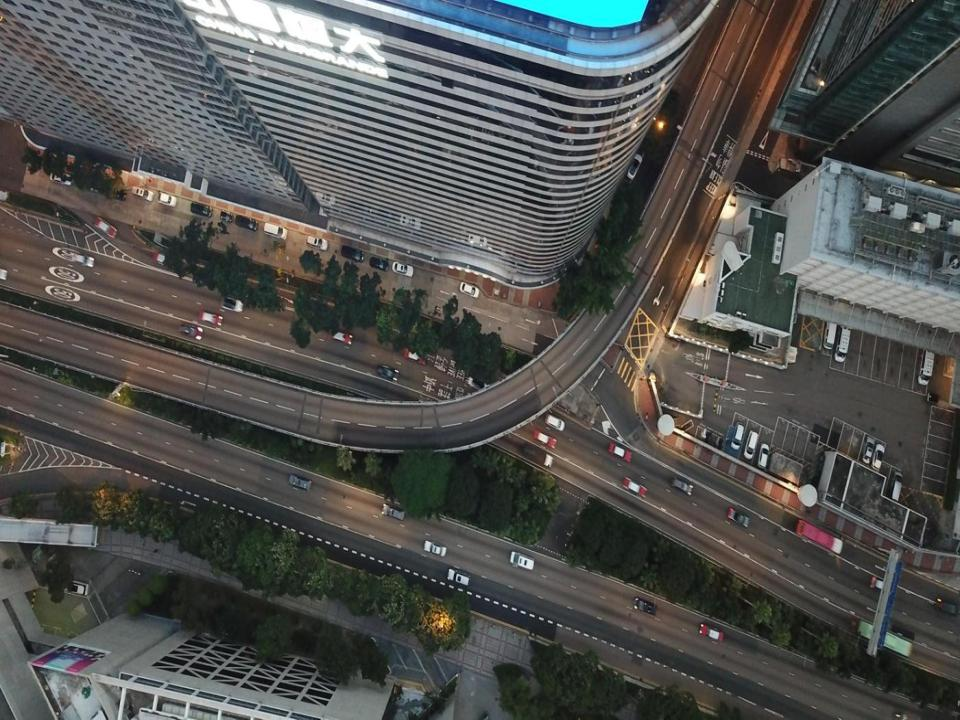bus: (824, 321, 836, 349)
car: (622, 477, 647, 498), (531, 430, 557, 450), (94, 216, 117, 238), (698, 624, 723, 642), (178, 322, 203, 340), (608, 442, 631, 461), (634, 598, 657, 617), (727, 508, 749, 527), (627, 153, 642, 180), (377, 364, 399, 382), (670, 477, 693, 494), (197, 311, 223, 326), (862, 435, 875, 464), (290, 474, 312, 491), (936, 599, 958, 616), (50, 170, 73, 186), (391, 261, 414, 277), (404, 348, 426, 364), (460, 282, 480, 299), (153, 252, 173, 269), (872, 443, 884, 471), (221, 297, 243, 311), (870, 577, 892, 591), (330, 330, 352, 343), (758, 443, 769, 468), (109, 189, 126, 201), (220, 210, 233, 221)
truck: (852, 618, 912, 657), (794, 518, 843, 555), (520, 441, 553, 468)
van: (918, 349, 935, 386), (834, 325, 850, 363), (743, 430, 758, 460), (888, 470, 901, 504), (510, 552, 534, 570), (382, 503, 405, 521), (730, 422, 744, 451), (60, 581, 88, 595), (132, 185, 154, 202), (341, 245, 363, 262), (235, 214, 258, 230), (264, 223, 287, 239), (423, 540, 446, 556), (448, 569, 470, 585), (545, 414, 565, 431), (191, 201, 212, 217), (306, 235, 328, 250), (370, 256, 388, 271), (74, 254, 95, 266), (158, 193, 177, 206)
